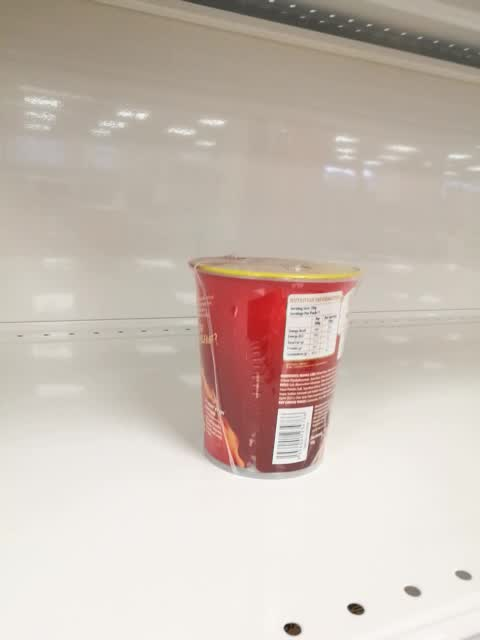maggi: (188, 253, 358, 482)
